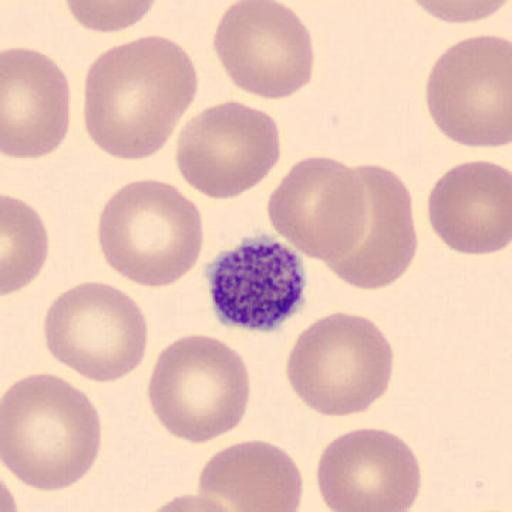Platelet: (204, 232, 311, 334)
RBC: (82, 35, 200, 162), (320, 160, 420, 291), (96, 177, 206, 290), (0, 371, 102, 492), (284, 311, 396, 418), (146, 334, 252, 445), (42, 280, 150, 384), (175, 99, 283, 201), (266, 154, 368, 262), (212, 0, 316, 100), (424, 33, 512, 150), (315, 426, 423, 512), (426, 157, 512, 255), (196, 438, 304, 512), (2, 46, 71, 160), (2, 193, 52, 296), (63, 0, 159, 35), (405, 0, 512, 24), (144, 492, 246, 512), (0, 472, 20, 512)
